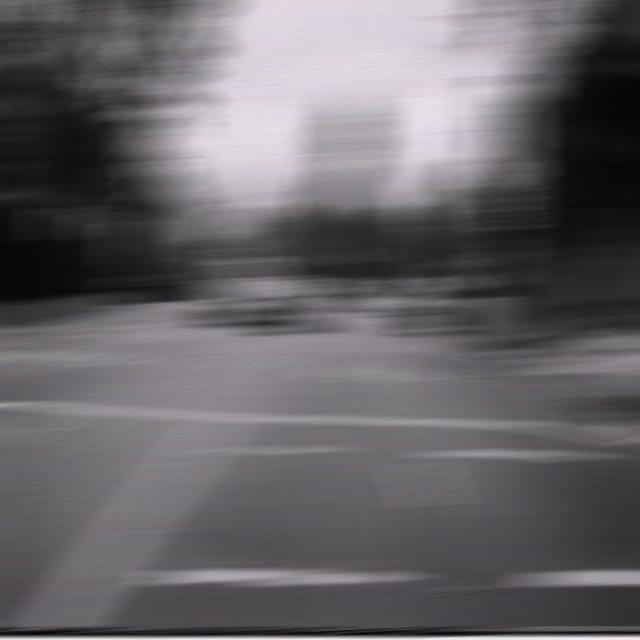speedLimit35: (485, 186, 528, 231)
